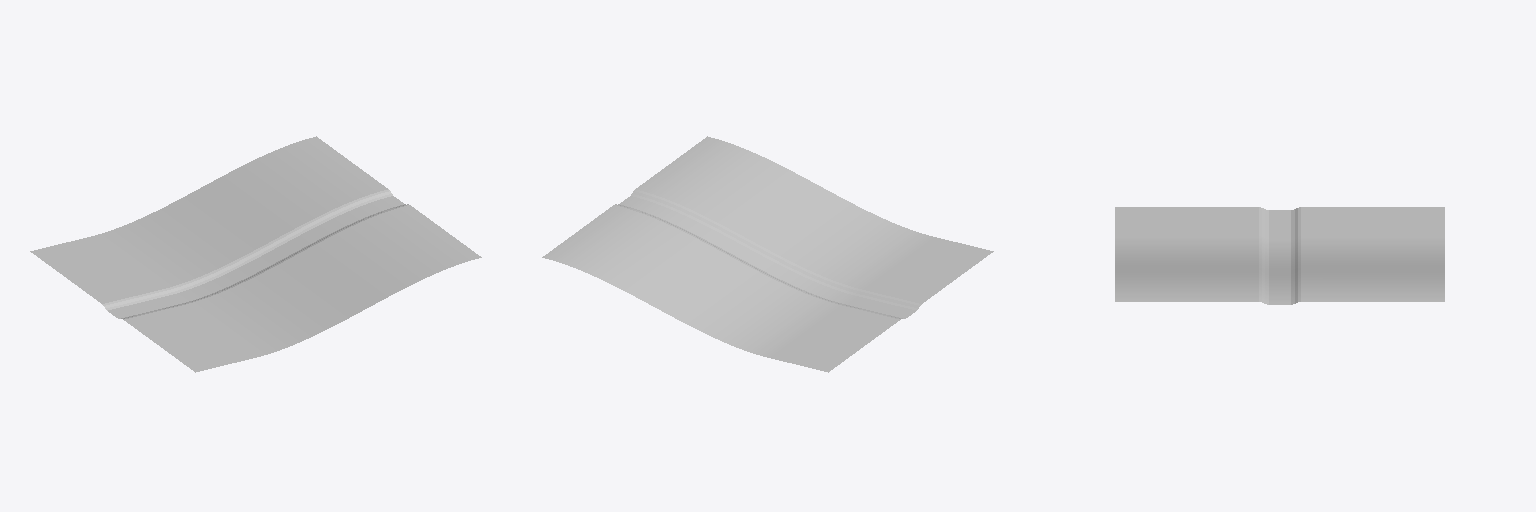
File: Terrain_Part_Ramp_2.obj
3 renders of one model, left to right at view 1: azimuth 30°, elevation 25°; view 2: azimuth 150°, elevation 25°; view 3: azimuth 270°, elevation 25°, orthographic.
Parts seen in each view (by area): view 1: Terrain_Part_Ramp_2_Plane.031; view 2: Terrain_Part_Ramp_2_Plane.031; view 3: Terrain_Part_Ramp_2_Plane.031.
Part boxes in pixels (bbox=[...]): Terrain_Part_Ramp_2_Plane.031: bbox=[30, 136, 481, 372]; Terrain_Part_Ramp_2_Plane.031: bbox=[542, 136, 993, 372]; Terrain_Part_Ramp_2_Plane.031: bbox=[1115, 207, 1444, 304].
Bounding box in the file's own units: 20 × 3.2 × 20.